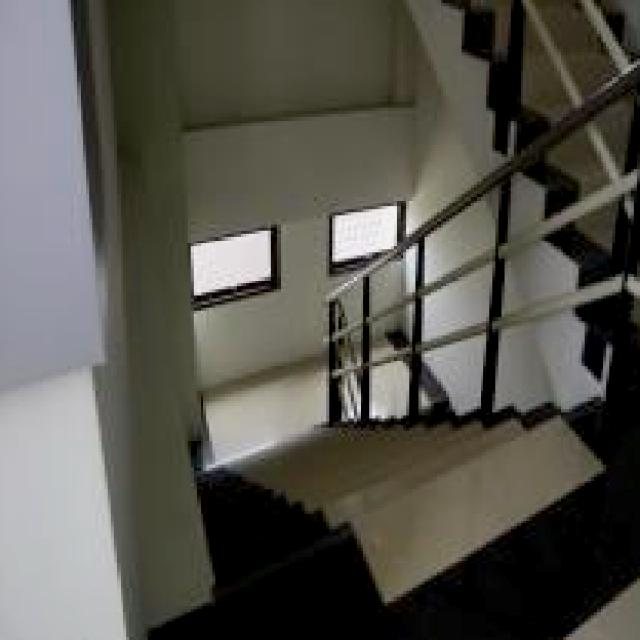downstair: (198, 422, 589, 640)
